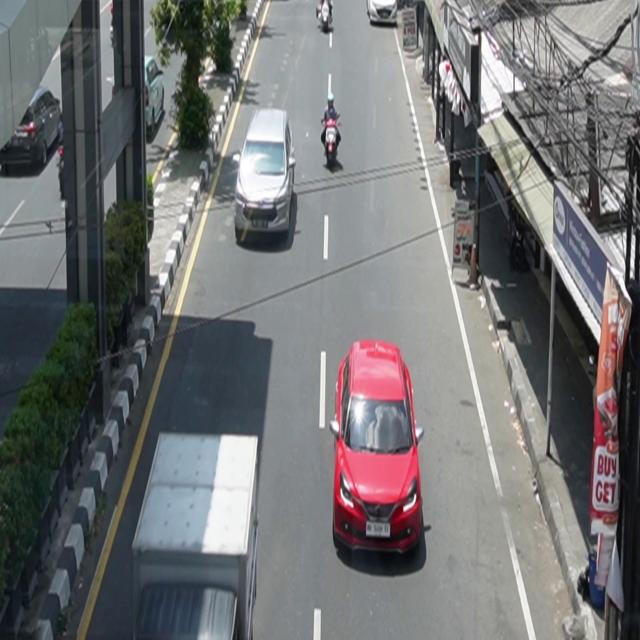bus: (132, 431, 260, 640)
car: (330, 340, 425, 558), (233, 107, 297, 240), (2, 86, 62, 169), (367, 1, 398, 26)
